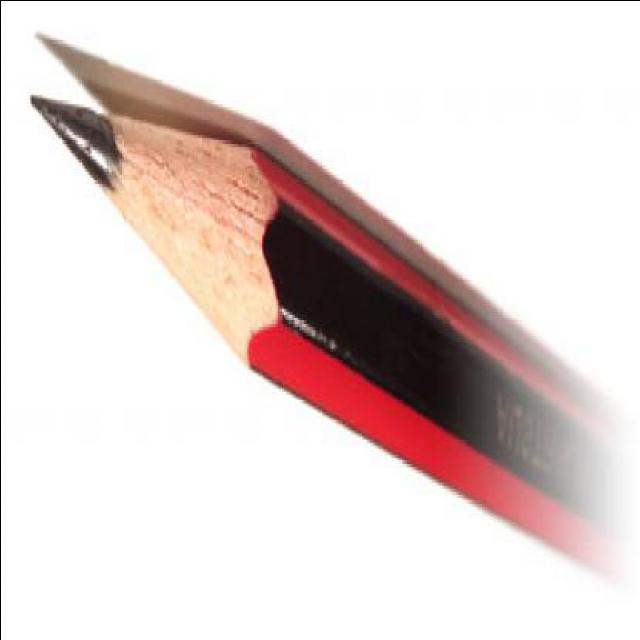pencil: (16, 82, 330, 421)
